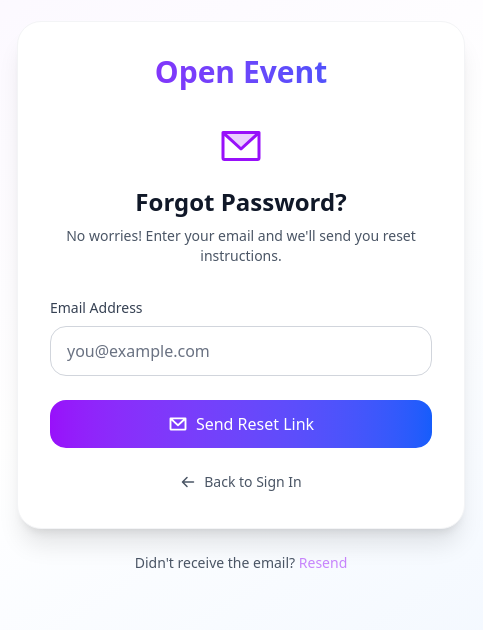
Test: ForgotPassword › Success State › should display success message with email
The width and height of the screenshot is (483, 630).
Step 1. Type "test@example.com" into the field labelled "Email Address" → (241, 351), box [50, 326, 432, 376]
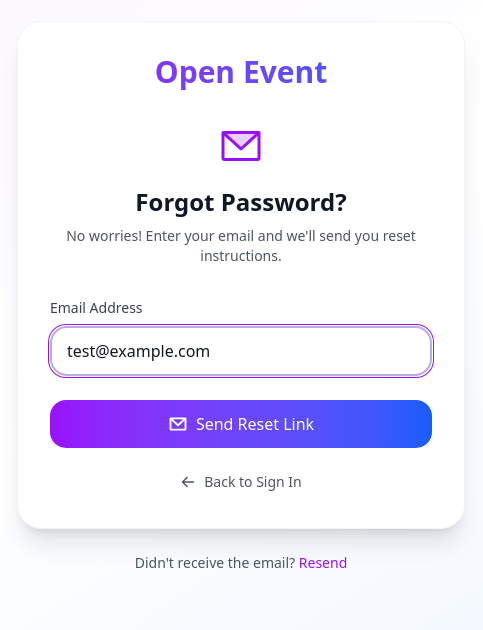
Step 2. Click the button "Send Reset Link" → (241, 424), box [50, 400, 432, 448]
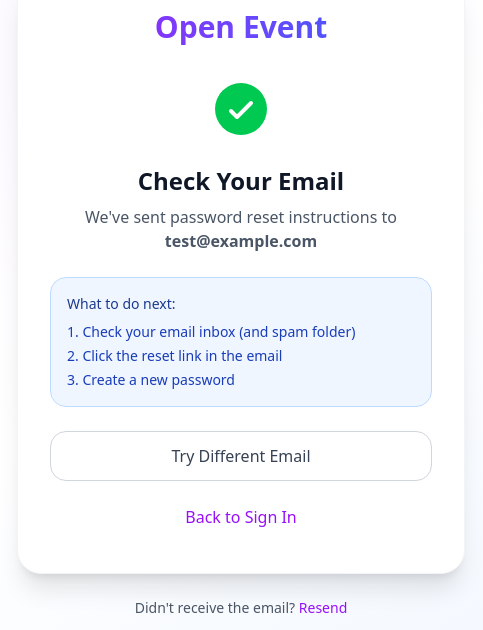
Now the heading "Check Your Email" is shown, box [138, 164, 344, 197]
Now the text "We've sent password reset instructions to test@example.com" is shown, box [85, 206, 397, 252]
Now the text "test@example.com" is shown, box [165, 230, 317, 252]
